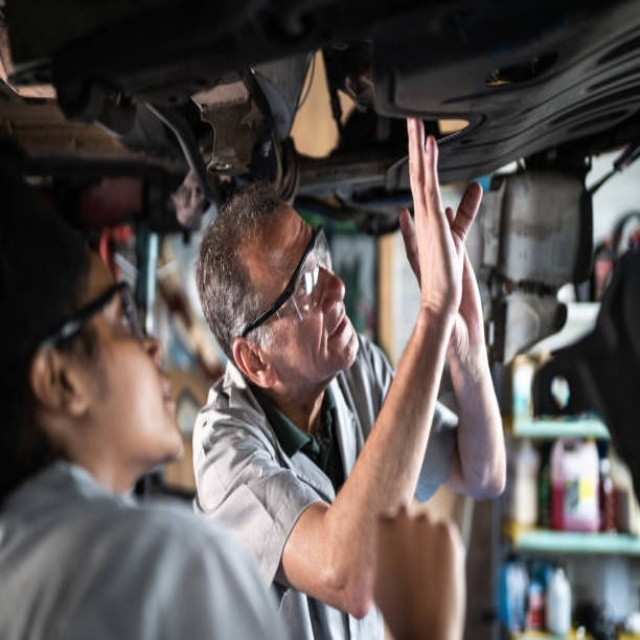Gafas: (237, 223, 324, 341), (37, 282, 138, 358)
Sin_guantes: (396, 111, 487, 345)
Sin_mascara: (146, 350, 185, 447), (323, 295, 358, 361)
